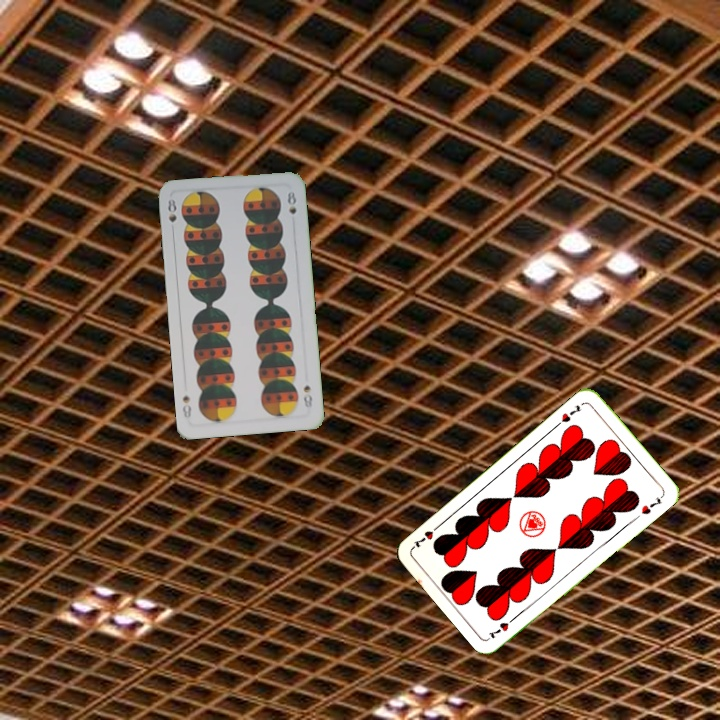H7: (485, 612, 519, 641), (552, 401, 585, 429)
S8: (299, 381, 315, 411), (163, 195, 179, 225)
